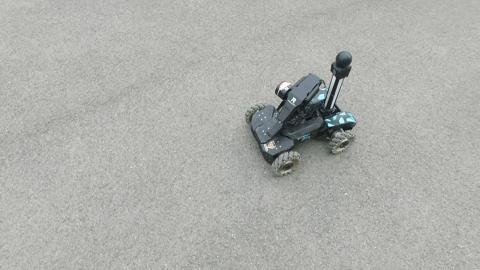chariot: (240, 44, 369, 183)
